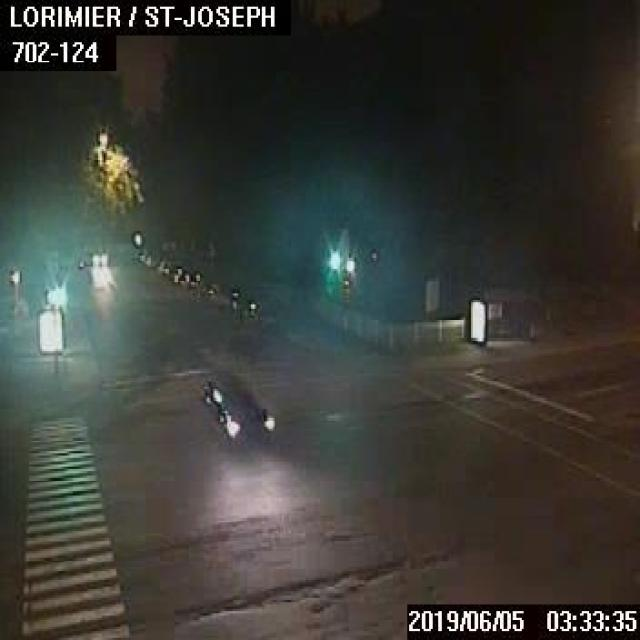vehicle: (201, 372, 273, 449), (241, 302, 276, 331), (179, 270, 202, 290), (89, 245, 108, 265), (155, 256, 171, 274)
